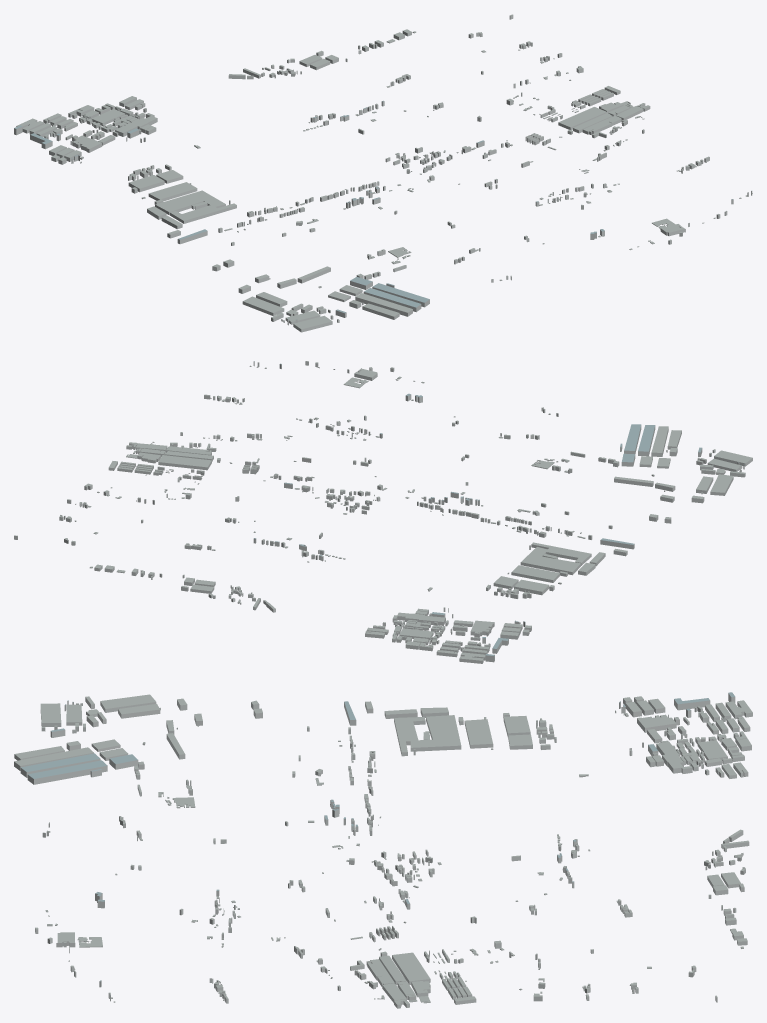
Rendered from far.glb.
3 views of the same model, one above another, from view 1: azimuth 30°, elevation 25°; view 2: azimuth 150°, elevation 25°; view 3: azimuth 270°, elevation 25° (orthographic). The views are drawn at different scales.
Bounding box in the file's own units: 2172 × 25.56 × 2185.
